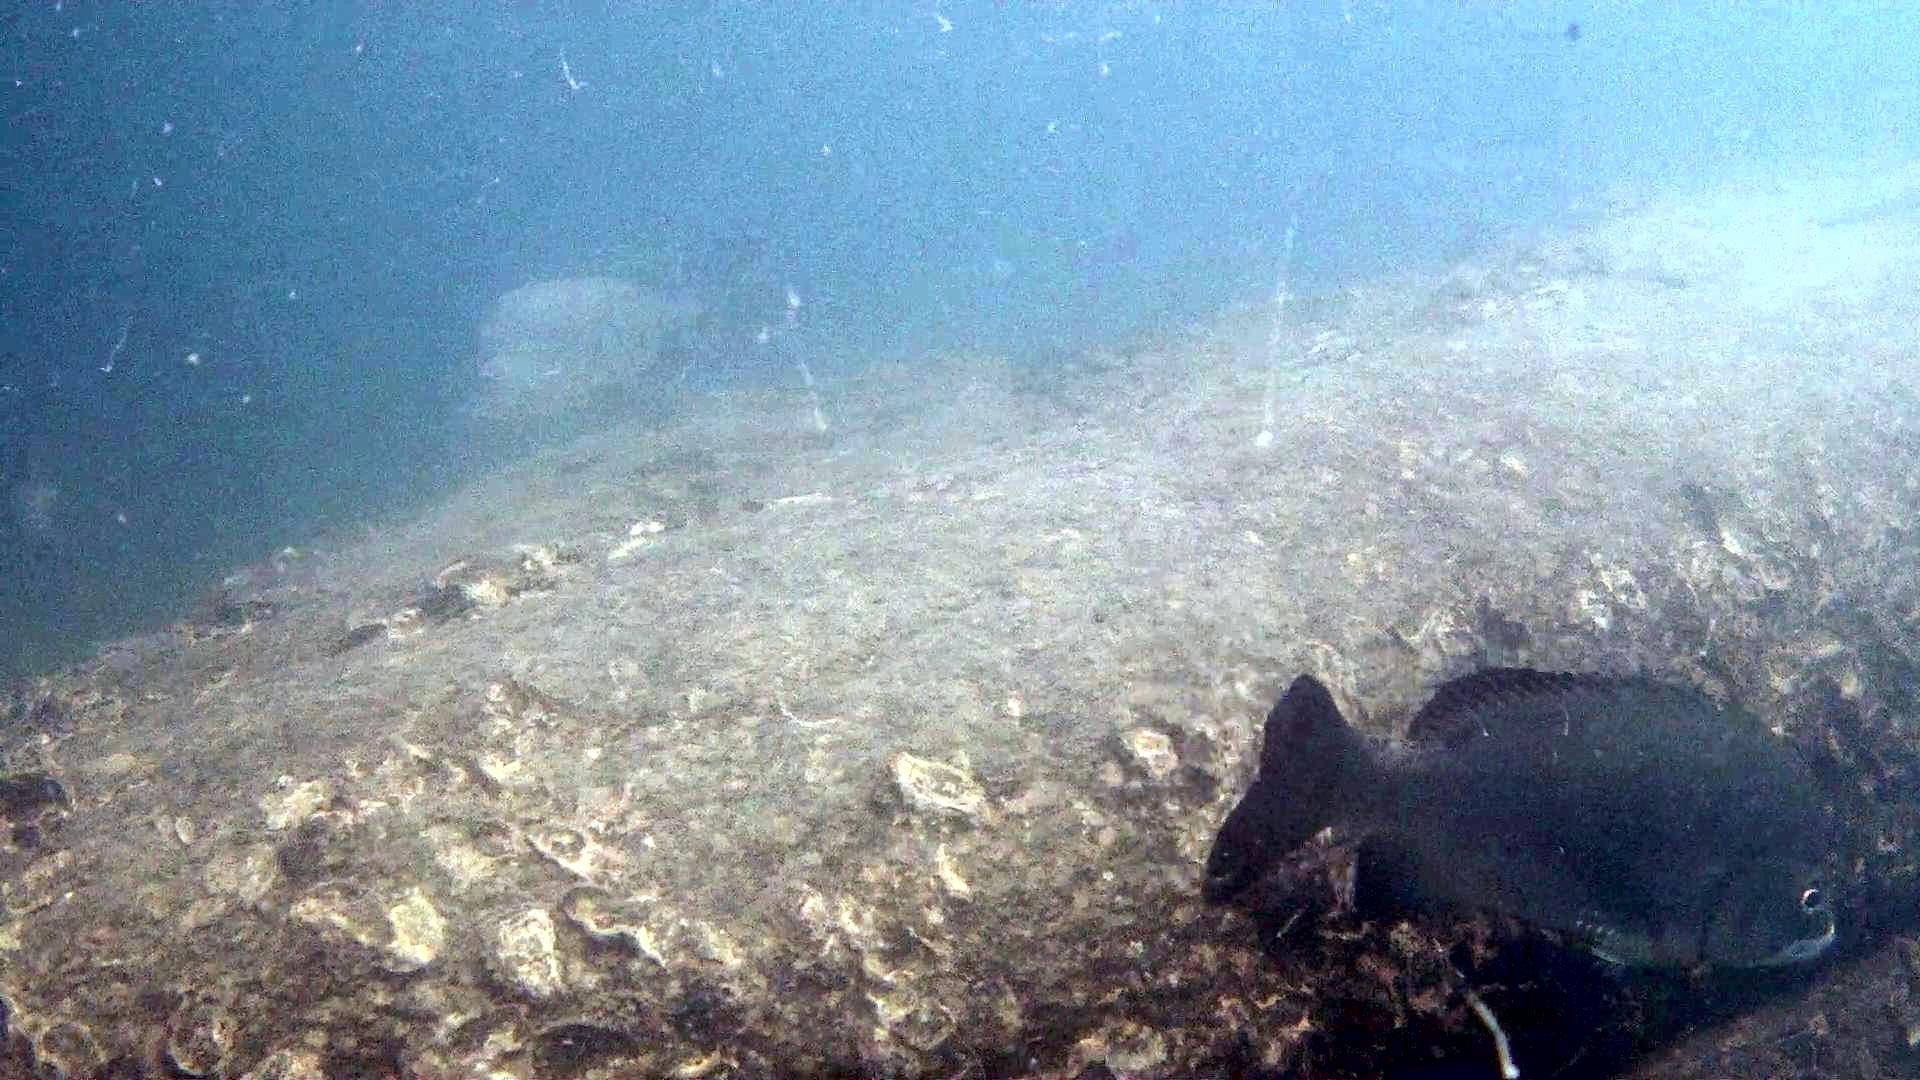acanthopagrus palmaris: (1183, 658, 1849, 1021)
